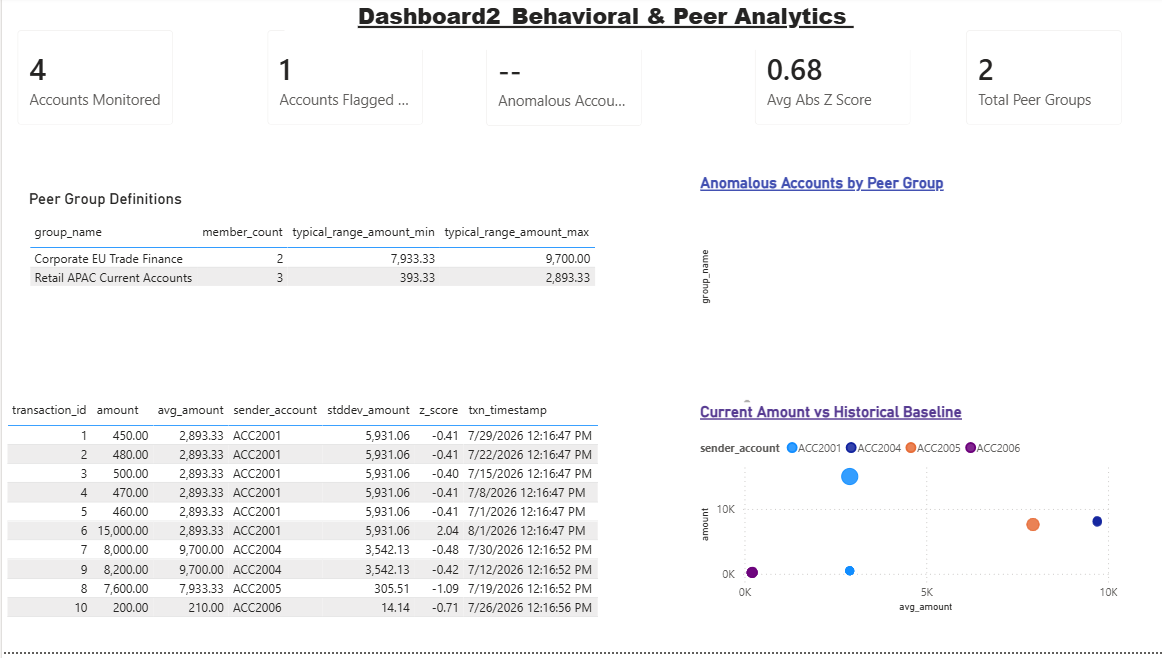

Layout of this report page (visuals, bound fields, positions):
{"tool":"powerbi","page":{"name":"Dashboard2_Behavioral & Peer Analytics ","canvas":[1280,720],"ordinal":1},"visuals":[{"type":"cardVisual","fields":{"Data":["vw_account_baseline_deviation.Accounts Monitored"]},"box":[0,20.6,205.8,138.6],"z":0},{"type":"cardVisual","fields":{"Data":["vw_account_baseline_deviation.Accounts Flagged Baseline"]},"box":[274.4,20.6,205.8,138.6],"z":1000},{"type":"cardVisual","fields":{"Data":["vw_peer_group_anomaly.Anomalous Account Count"]},"box":[514.6,22,205.8,138.6],"z":2000},{"type":"cardVisual","fields":{"Data":["vw_account_baseline_deviation.Avg Abs Z Score"]},"box":[809.6,20.6,205.8,138.6],"z":3000},{"type":"cardVisual","fields":{"Data":["vw_peer_group_anomaly.Total Peer Groups"]},"box":[1041.5,20.6,205.8,138.6],"z":4000},{"type":"tableEx","title":"Peer Group Definitions","fields":{"Values":["peer_group.group_name","peer_group.member_count","peer_group.typical_range_amount_min","peer_group.typical_range_amount_max"]},"box":[24.7,212.7,695.7,211.3],"z":5000},{"type":"clusteredBarChart","title":"Anomalous Accounts by Peer Group","fields":{"Category":["peer_group.group_name"],"Y":["vw_peer_group_anomaly.Anomalous Account Count"]},"box":[761.6,194.9,428.1,188],"z":6000},{"type":"tableEx","fields":{"Values":["transactions.transaction_id","vw_account_baseline_deviation.amount","vw_account_baseline_deviation.avg_amount","transactions.sender_account","vw_account_baseline_deviation.stddev_amount","vw_account_baseline_deviation.z_score","transactions.txn_timestamp"]},"box":[0,437.7,827.4,252.5],"z":7000},{"type":"scatterChart","title":"Current Amount vs Historical Baseline","fields":{"Size":["Sum(vw_account_baseline_deviation.AbsZScore)"],"Y":["vw_account_baseline_deviation.amount"],"X":["vw_account_baseline_deviation.avg_amount"],"Series":["vw_account_baseline_deviation.sender_account"]},"box":[761.6,446,467.9,236],"z":8000},{"type":"textbox","box":[310.1,0,705.3,59],"z":9000}]}

Visuals, with their boxes in screenshot pixels (x1, y1, x2, y2), scaled from the page's 1280x720 canvas onto the 1162x658 screenshot:
cardVisual - vw_account_baseline_deviation.Accounts Monitored: 0/19/187/145
cardVisual - vw_account_baseline_deviation.Accounts Flagged Baseline: 249/19/436/145
cardVisual - vw_peer_group_anomaly.Anomalous Account Count: 467/20/654/147
cardVisual - vw_account_baseline_deviation.Avg Abs Z Score: 735/19/922/145
cardVisual - vw_peer_group_anomaly.Total Peer Groups: 945/19/1132/145
"Peer Group Definitions" tableEx: 22/194/654/387
"Anomalous Accounts by Peer Group" clusteredBarChart: 691/178/1080/350
tableEx - transactions.transaction_id x vw_account_baseline_deviation.amount: 0/400/751/631
"Current Amount vs Historical Baseline" scatterChart: 691/408/1116/623
textbox: 282/0/922/54
